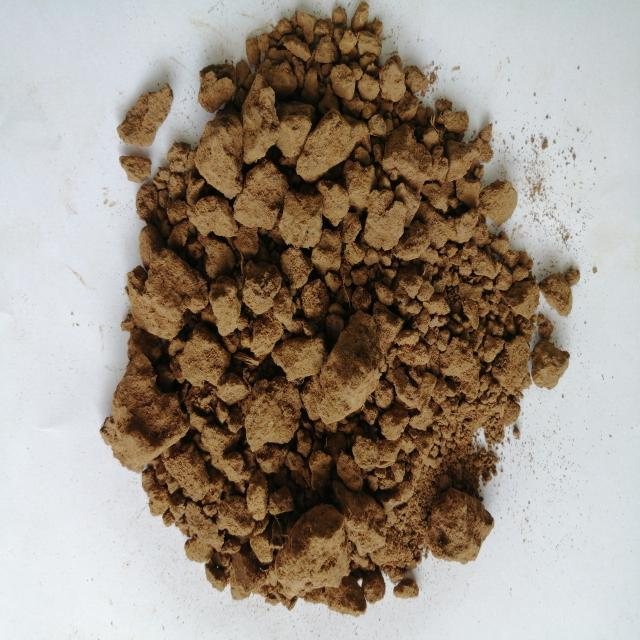soil: (138, 119, 500, 533)
